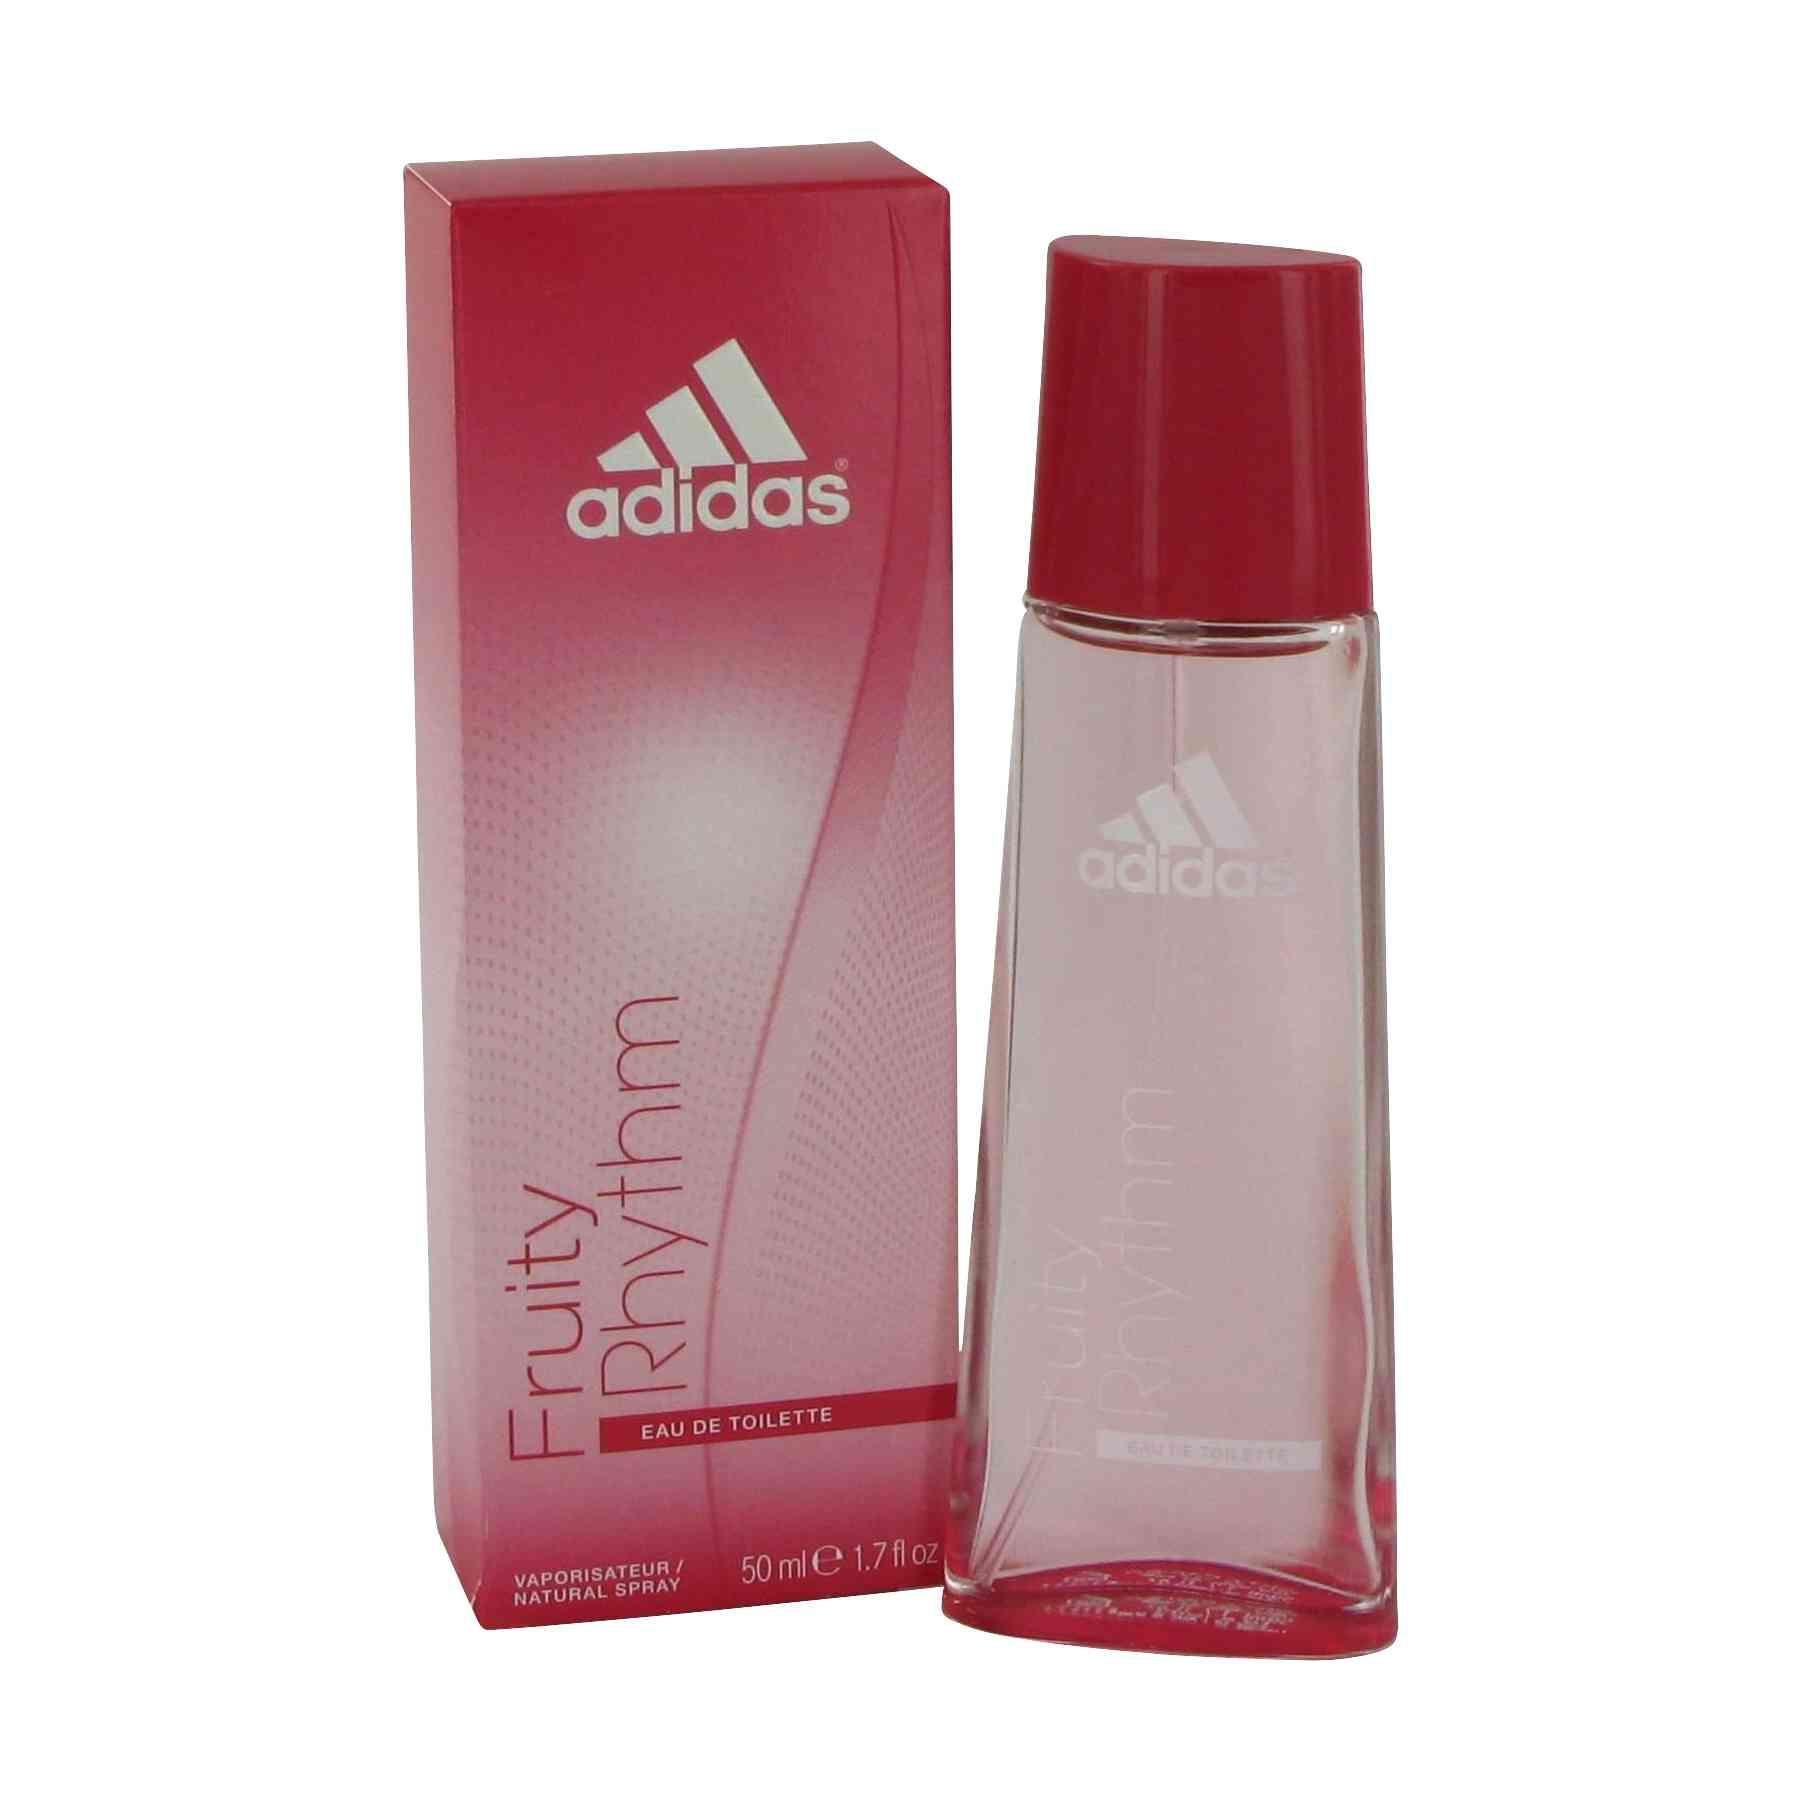Adidas: (563, 332, 860, 553), (1068, 739, 1318, 909)
